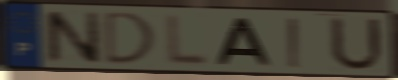A: (214, 16, 275, 68)
D: (103, 10, 159, 67)
I: (285, 16, 304, 70)
L: (164, 12, 211, 69)
N: (41, 9, 104, 66)
U: (327, 14, 387, 74)
